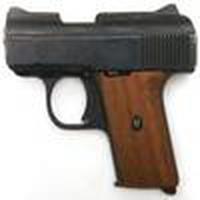gun: (1, 5, 186, 200)
